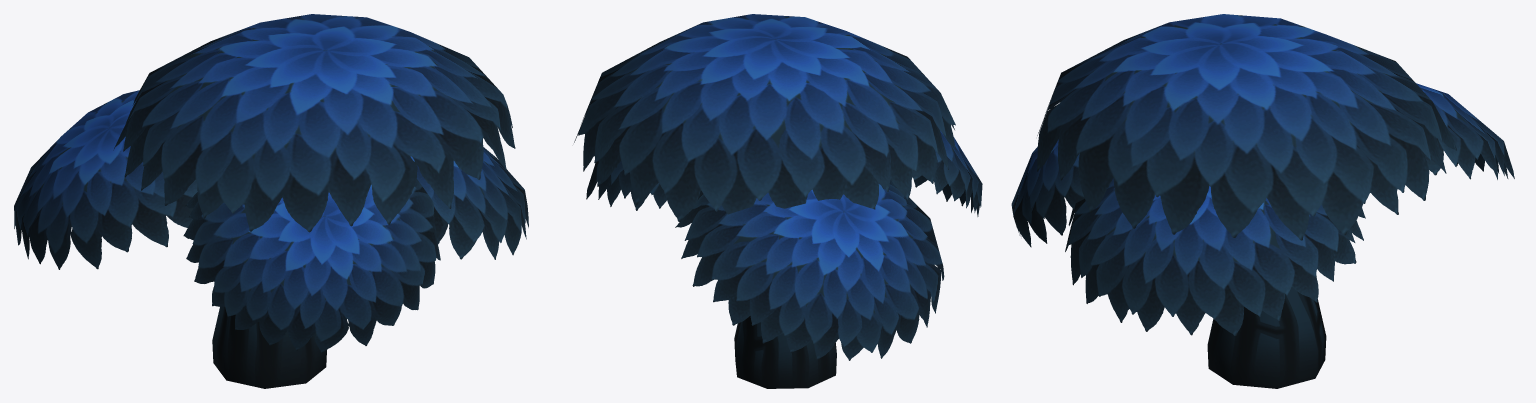
File: Tree3.FBX
3 renders of one model, left to right at view 1: azimuth 30°, elevation 25°; view 2: azimuth 150°, elevation 25°; view 3: azimuth 270°, elevation 25°, orthographic. The views are drawn at different scales.
Visible parts, largest first — view 1: Tree3; view 2: Tree3; view 3: Tree3.
Part boxes in pixels (left/top/right/bottom): Tree3: left=14, top=14, right=528, bottom=388; Tree3: left=574, top=14, right=982, bottom=388; Tree3: left=1011, top=14, right=1514, bottom=388.
Size of the model in its own units: 282 by 212 by 289.
